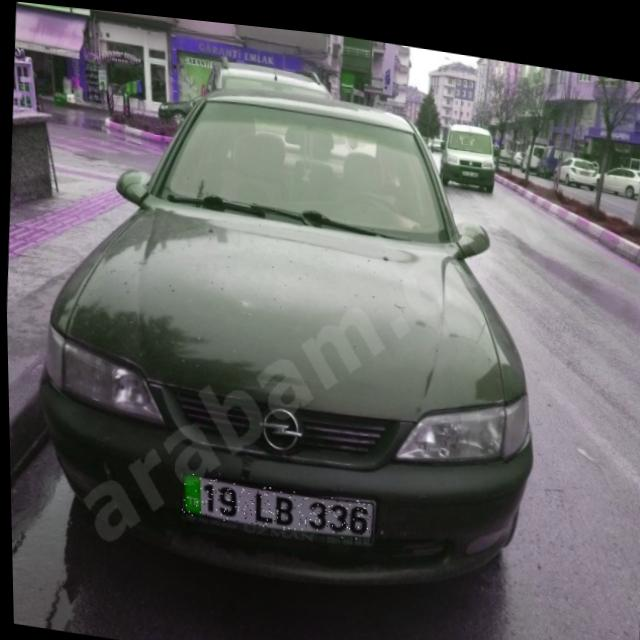license_plate: (177, 468, 372, 536)
